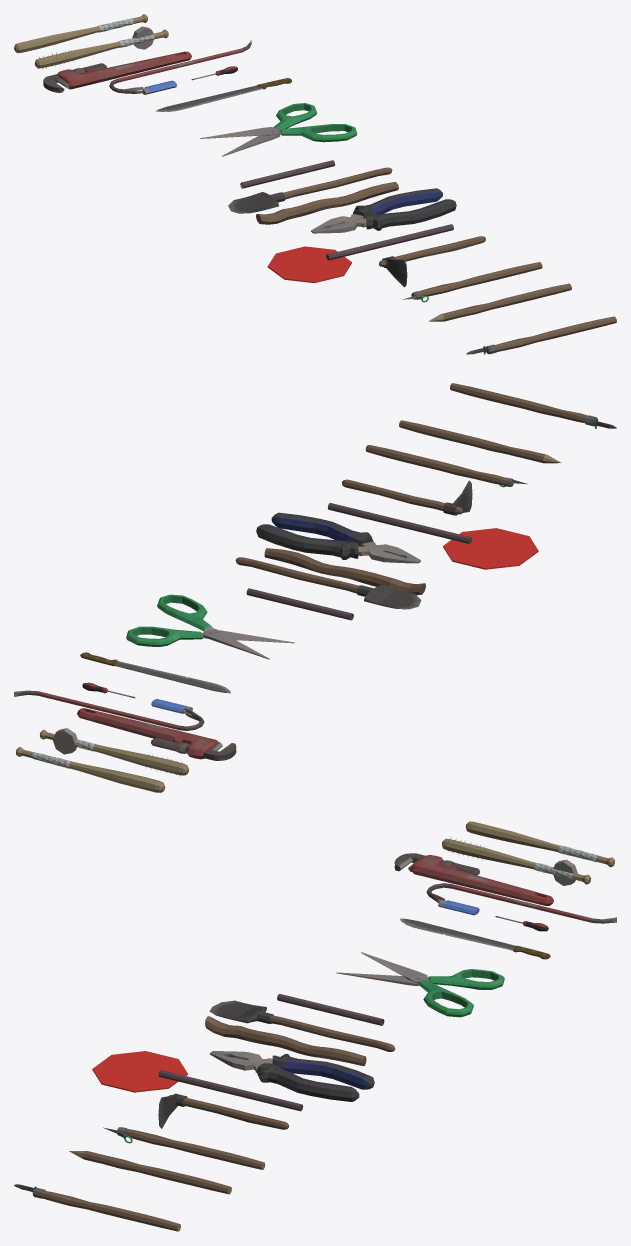
The model's file is weapons2.fbx.
The picture shows the model from 3 angles, top to bottom: view 1: azimuth 30°, elevation 25°; view 2: azimuth 150°, elevation 25°; view 3: azimuth 330°, elevation 25°; orthographic projection. The views are drawn at different scales.
Visible parts, largest first — view 1: F_pincers2, F_signPipe, F_scissorsWheel, F_pWrenchHandle, F_shovel, Cylinder.002, F_SpearBayonetBlade, F_hoe, F_spearWooden, F_bat, F_spearScissorsHandle, F_batS (+3 smaller); view 2: F_pincers2, F_signPipe, F_scissorsWheel, F_pWrenchHandle, F_shovel, Cylinder.002, F_SpearBayonetBlade, F_bat, F_spearWooden, F_spearScissorsHandle, F_hoe, F_batS (+3 smaller); view 3: F_pincers2, F_signPipe, F_scissorsWheel, F_pWrenchHandle, F_shovel, Cylinder.002, F_SpearBayonetBlade, F_spearWooden, F_spearScissorsHandle, F_hoe, F_bat, F_batS (+3 smaller).
Part boxes in pixels (x1,y1,x2,y2): F_pincers2: [311, 188, 456, 233]; F_signPipe: [267, 224, 453, 283]; F_scissorsWheel: [200, 103, 357, 156]; F_pWrenchHandle: [43, 51, 191, 92]; F_shovel: [228, 167, 392, 213]; Cylinder.002: [256, 182, 398, 224]; F_SpearBayonetBlade: [466, 316, 616, 354]; F_hoe: [379, 236, 485, 287]; F_spearWooden: [428, 283, 571, 321]; F_bat: [14, 14, 147, 53]; F_spearScissorsHandle: [403, 262, 542, 302]; F_batS: [34, 29, 168, 69]; F_pincers2: [256, 512, 420, 563]; F_signPipe: [327, 503, 538, 569]; F_scissorsWheel: [126, 594, 294, 659]; F_pWrenchHandle: [77, 708, 236, 760]; F_shovel: [235, 557, 421, 609]; Cylinder.002: [264, 548, 425, 595]; F_SpearBayonetBlade: [450, 383, 616, 428]; F_bat: [16, 747, 165, 792]; F_spearWooden: [399, 420, 561, 463]; F_spearScissorsHandle: [365, 445, 527, 487]; F_hoe: [342, 479, 472, 515]; F_batS: [39, 729, 188, 776]; F_pincers2: [210, 1051, 374, 1101]; F_signPipe: [92, 1051, 303, 1111]; F_scissorsWheel: [336, 952, 504, 1017]; F_pWrenchHandle: [394, 853, 553, 905]; F_shovel: [209, 1000, 395, 1051]; Cylinder.002: [205, 1016, 366, 1066]; F_SpearBayonetBlade: [14, 1184, 180, 1231]; F_spearWooden: [69, 1151, 231, 1194]; F_spearScissorsHandle: [103, 1127, 265, 1169]; F_hoe: [158, 1093, 288, 1129]; F_bat: [465, 821, 614, 867]; F_batS: [442, 837, 591, 884].
Bounding box in the file's own units: 2675 × 328 × 9298.
